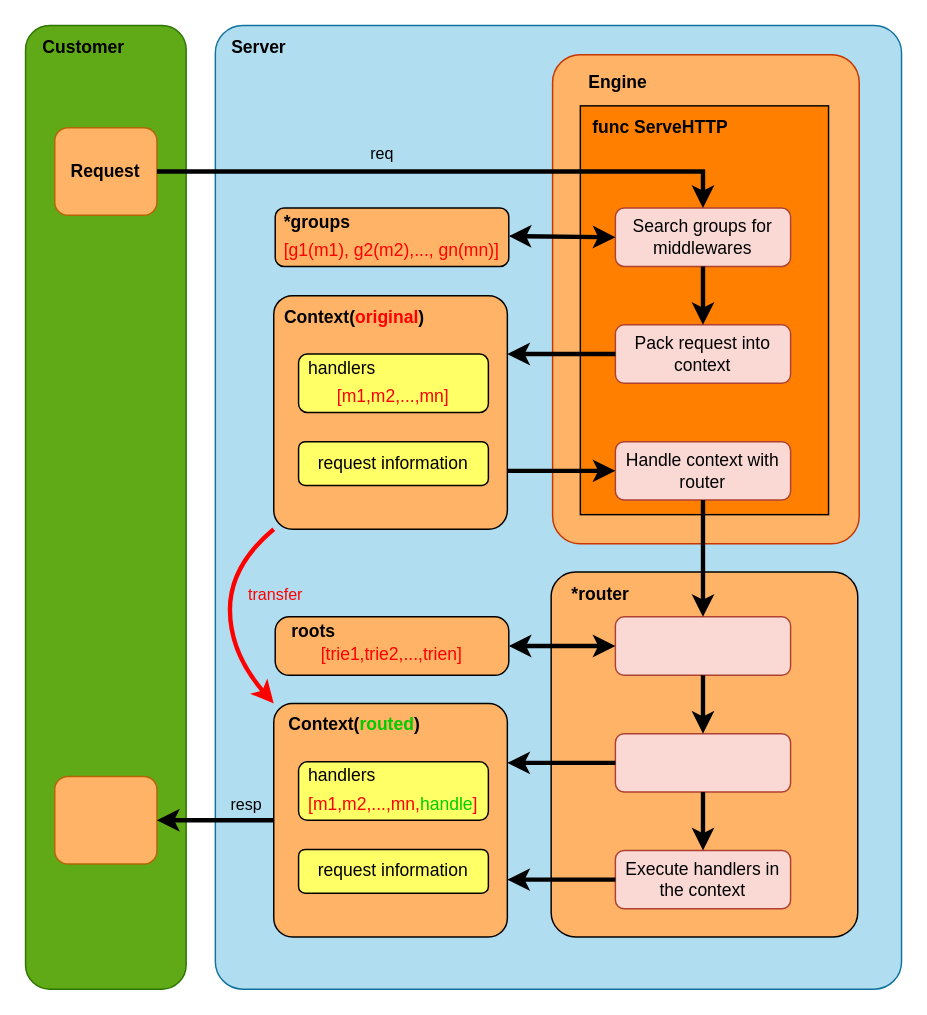
Some shapes in this 927 by 1015 pixel diagram are drawn without their labels. The shapes that lost their labels are listed below. From the top down, each one's box as (x1, y1, x2, y2) in pixels, then its label:
(614, 615, 791, 675): Find corresponding node in the tries
(614, 732, 791, 792): Put handler into context
(53, 775, 157, 864): Response
